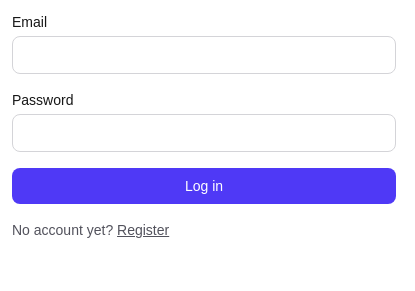
Scenario: AuthForm › announces a rate limit on login, with the wait from X-Retry-After
Type "a@example.test" into the field labelled "Email".
click(204, 55); type("a@example.test")  # box [12, 36, 396, 74]
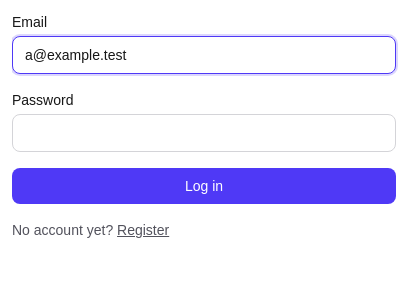
Type "test-password-123" into the password field labelled "Password".
click(204, 133); type("test-password-123")  # box [12, 114, 396, 152]
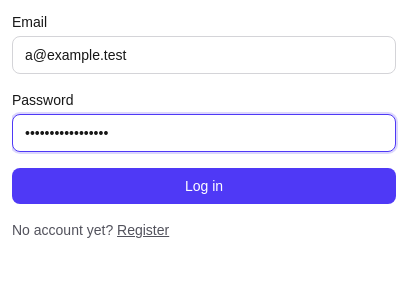
Click the button "Log in".
click(204, 186)  # box [12, 168, 396, 204]
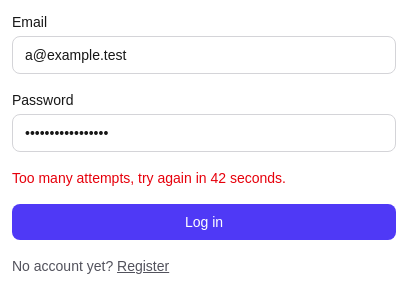
Check: the message reads "Too many attempts, try again in 42 seconds.", box [12, 170, 286, 186]
